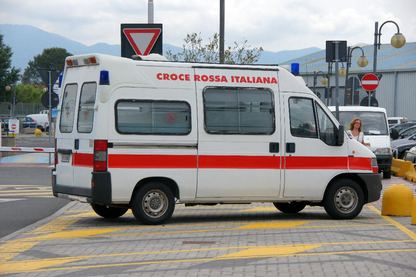ambulance: (51, 53, 382, 223)
